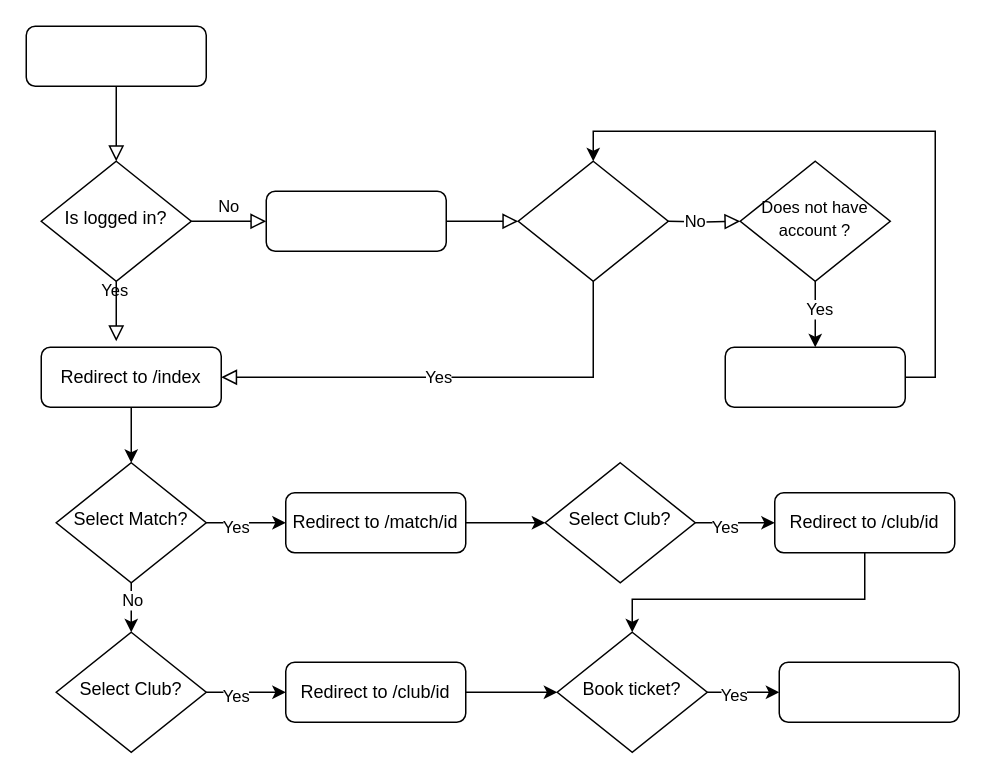
The diagram is 986 pixels wide and 779 high, and some of its shapes have lost their labels. Here are the shapes that lost their labels. From the top down, the centre of each, then its label:
pixel 115 55: Go to webpage
pixel 355 220: Redirect to /login
pixel 592 220: Did log- in ?
pixel 814 376: Redirect to /signup
pixel 868 691: Redirect to link
